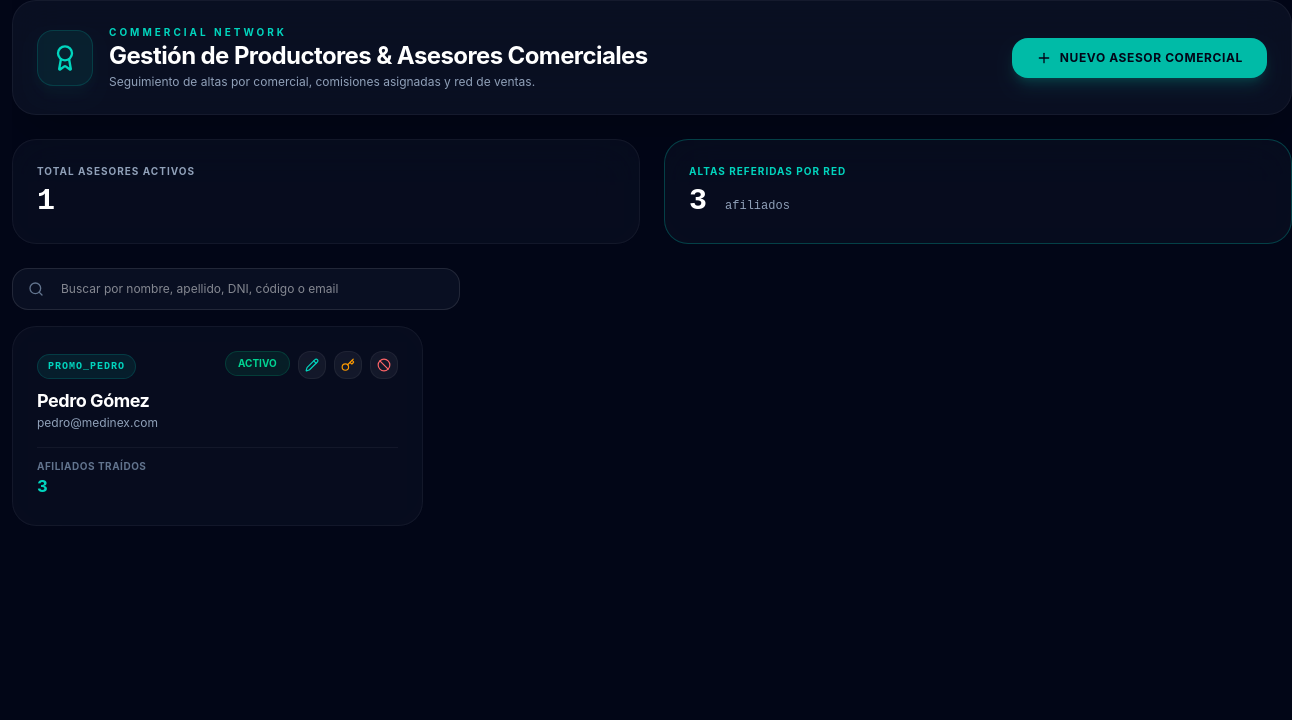
Test: ProducersAdmin › debounces the server-side search 300ms and renders inactive results with a labeled badge (Esc.16/Esc.18)
The width and height of the screenshot is (1292, 720).
Expected: the heading "Pedro Gómez" is shown, [37,387,158,415]
Type "ana" into the field with placeholder "Buscar por nombre, apellido, DNI, código o email". click: (236,289)
box: [12,268,460,310]
Wait 300 ms
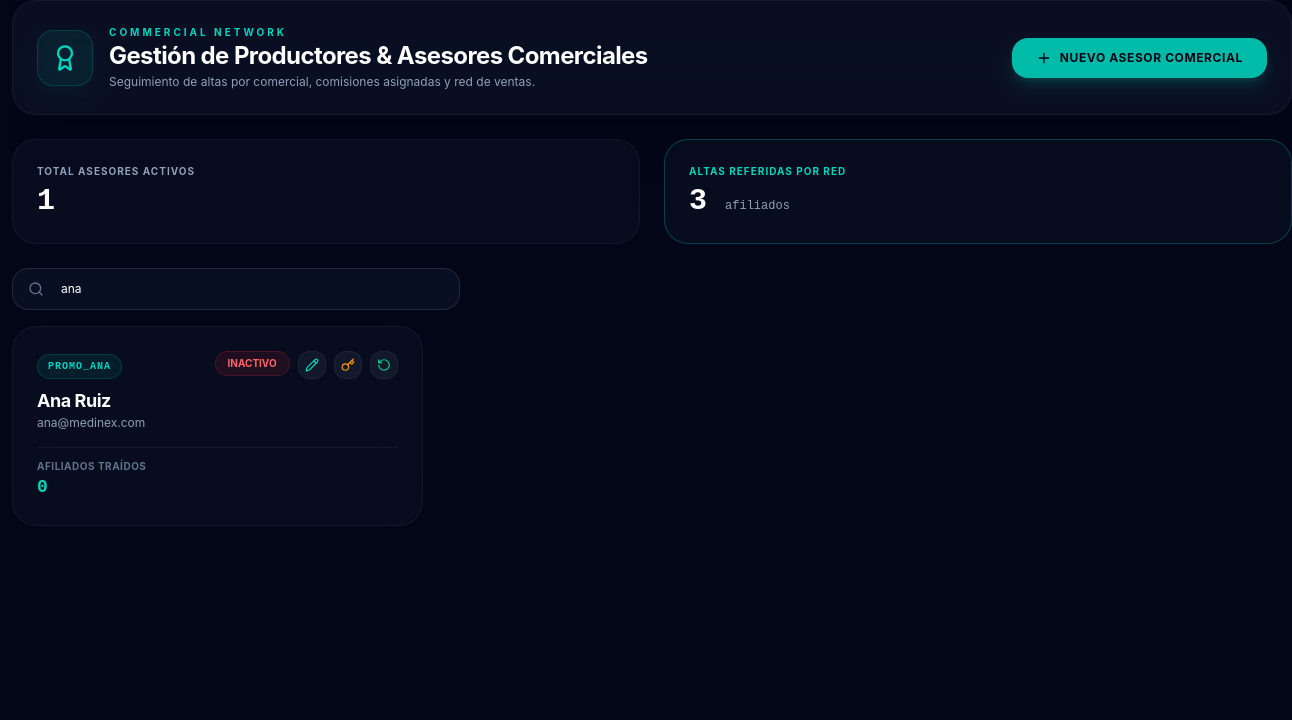
Result: the heading "Ana Ruiz" is shown at [37,390,111,411]
Result: the text "Inactivo" is shown at [214,351,290,376]
